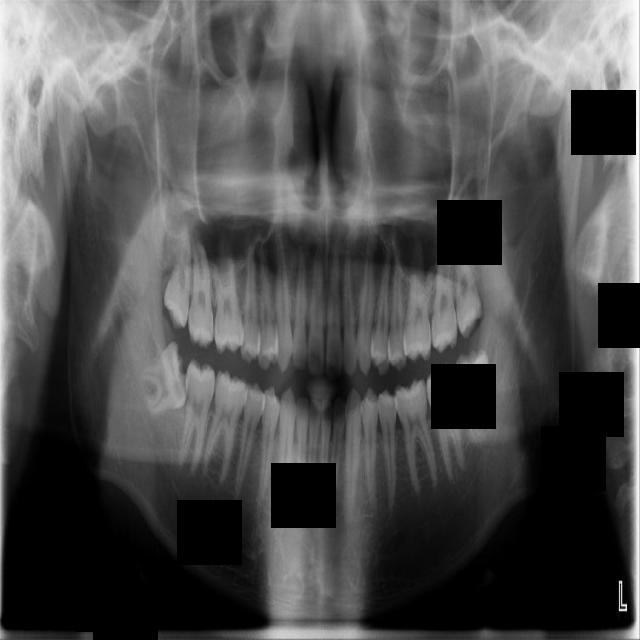3M ESPE Implant: (162, 227, 194, 330)
73: (606, 596, 610, 604)
BioHorizons Implant: (431, 242, 458, 354)
BioLife Implant: (449, 229, 484, 340)
Biomet 3i Implant: (454, 347, 495, 443)
Blue Sky Bio Implant: (424, 362, 465, 481)
Caries: (183, 240, 216, 351)
Implant: (177, 359, 217, 475)
Keystone Dental Implant: (130, 339, 196, 418)
